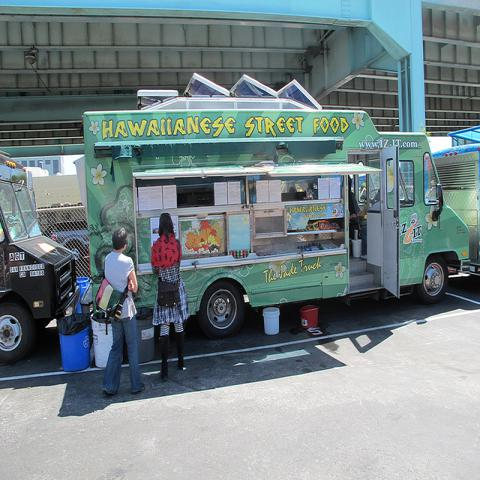car: (44, 220, 88, 263)
truck: (82, 71, 473, 339), (1, 158, 79, 360)
